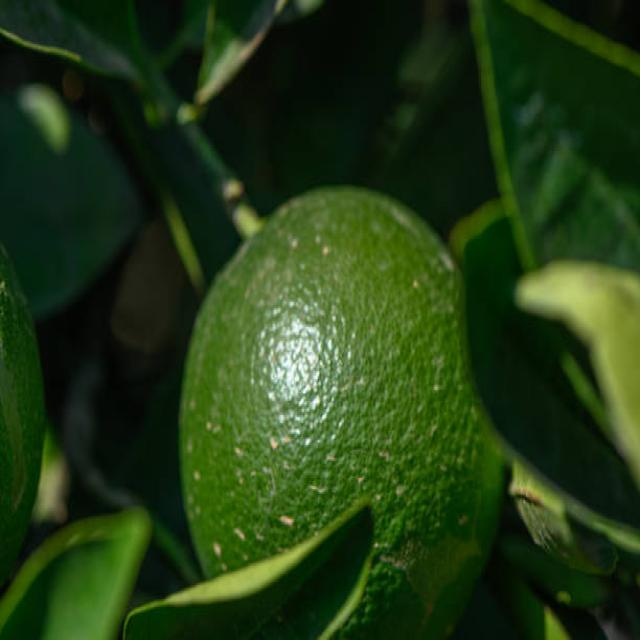Unripe: (177, 186, 506, 636)
